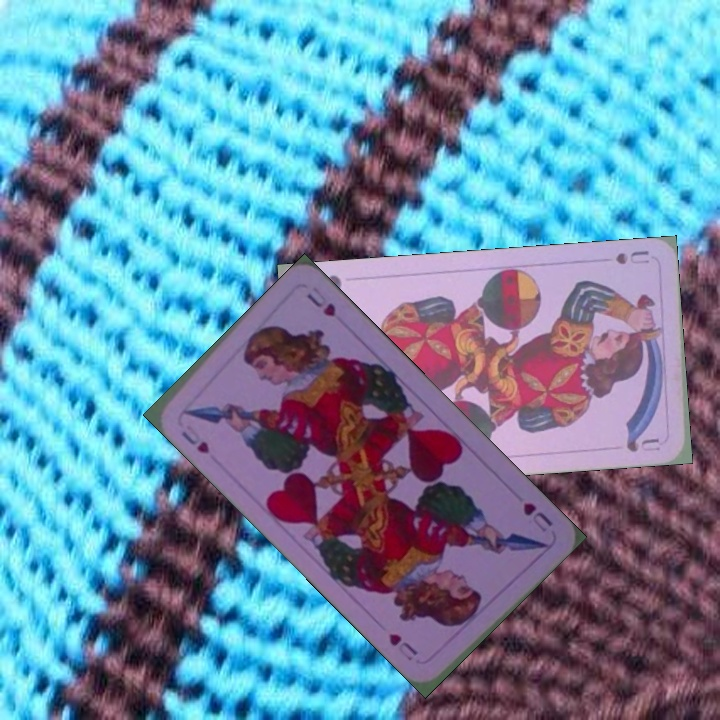HU: (175, 409, 212, 456), (519, 499, 556, 535)
SU: (611, 246, 652, 267)
